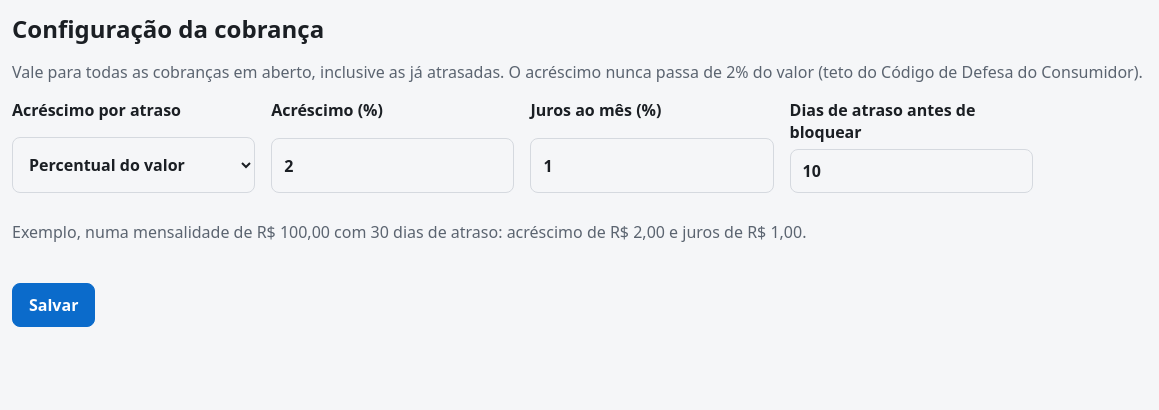
Scenario: configuração da cobrança › mostra a atual e salva com a versão lida, números como número
Check: the number field labelled "Acréscimo (%)" holds "2", box x1=271 y1=138 x2=514 y2=193
Select "Valor fixo em reais" in the dropdown named "Tipo do acréscimo" at {"x": 134, "y": 165}, box x1=12 y1=137 x2=255 y2=193
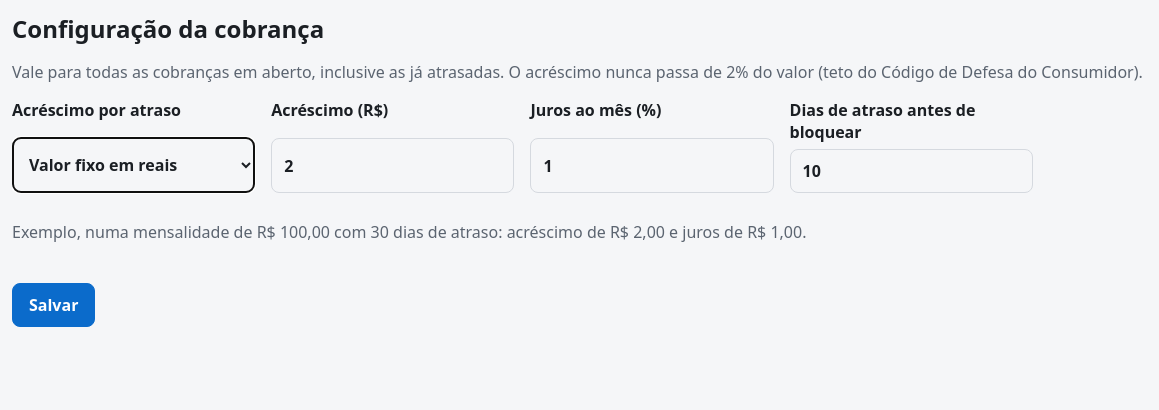
Replace the text in the number field labelled "Acréscimo (R$)" with "5" at {"x": 393, "y": 166}, box x1=271 y1=138 x2=514 y2=193
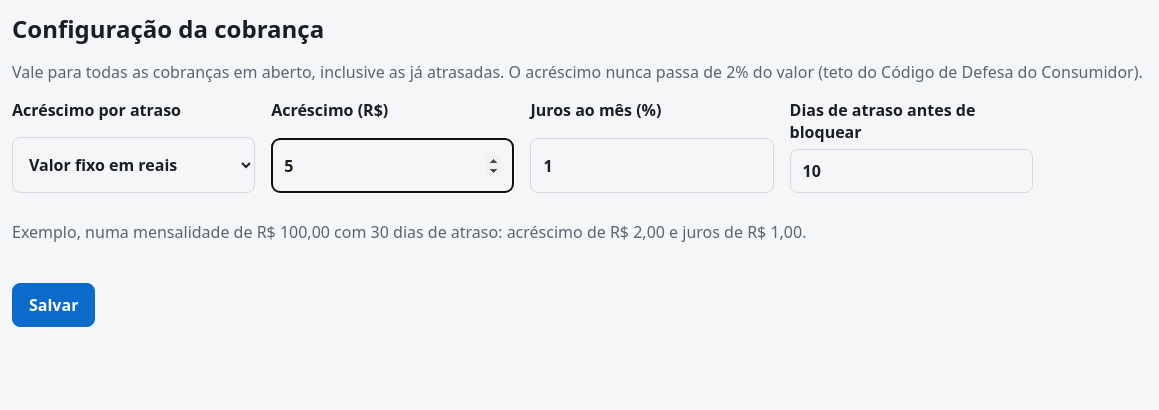
Click the button "Salvar" at {"x": 54, "y": 305}, box x1=12 y1=283 x2=95 y2=327
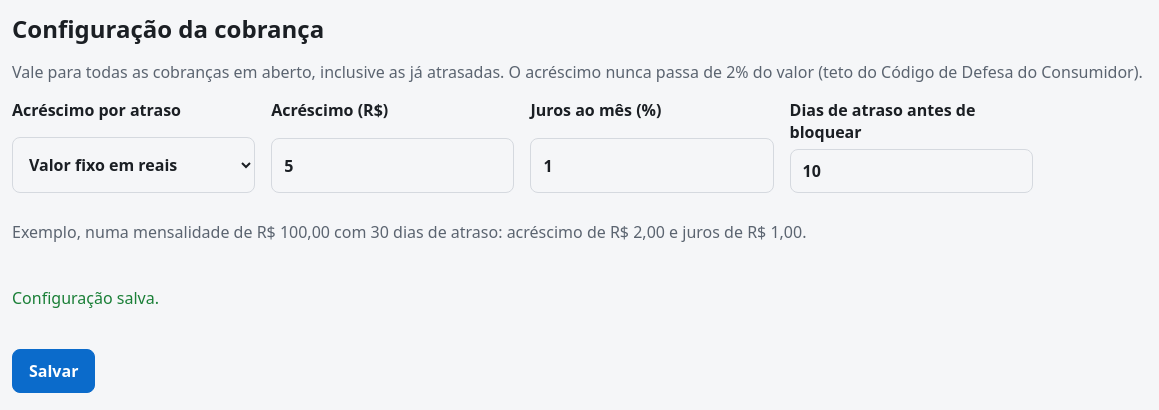
Check: the text "Configuração salva." is shown, box x1=12 y1=287 x2=159 y2=309
